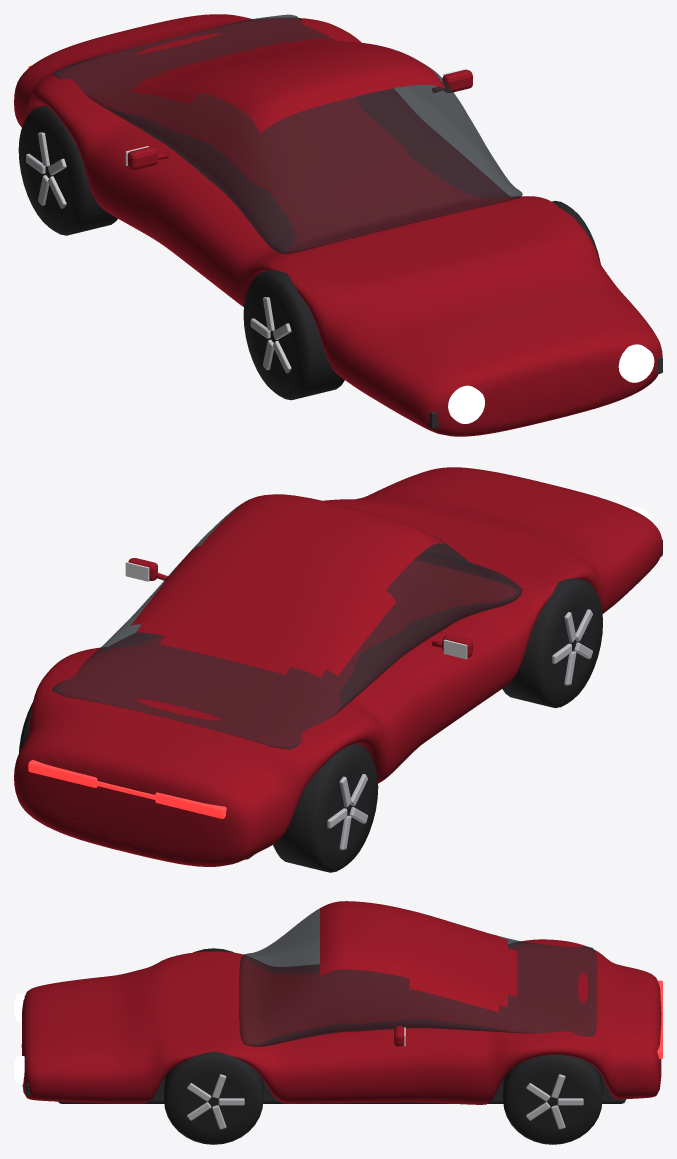
Rendered from car-porsche.glb.
3 renders of one model, top to bottom at view 1: azimuth 30°, elevation 25°; view 2: azimuth 150°, elevation 25°; view 3: azimuth 270°, elevation 25°, orthographic. The views are drawn at different scales.
Visible parts, largest first — view 1: car-porsche; view 2: car-porsche; view 3: car-porsche.
Part boxes in pixels (x1,y1,x2,y2): car-porsche: (14, 14, 662, 436); car-porsche: (14, 465, 662, 872); car-porsche: (14, 901, 662, 1144).
Bounding box in the file's own units: 2.1 × 1.3 × 4.57.
